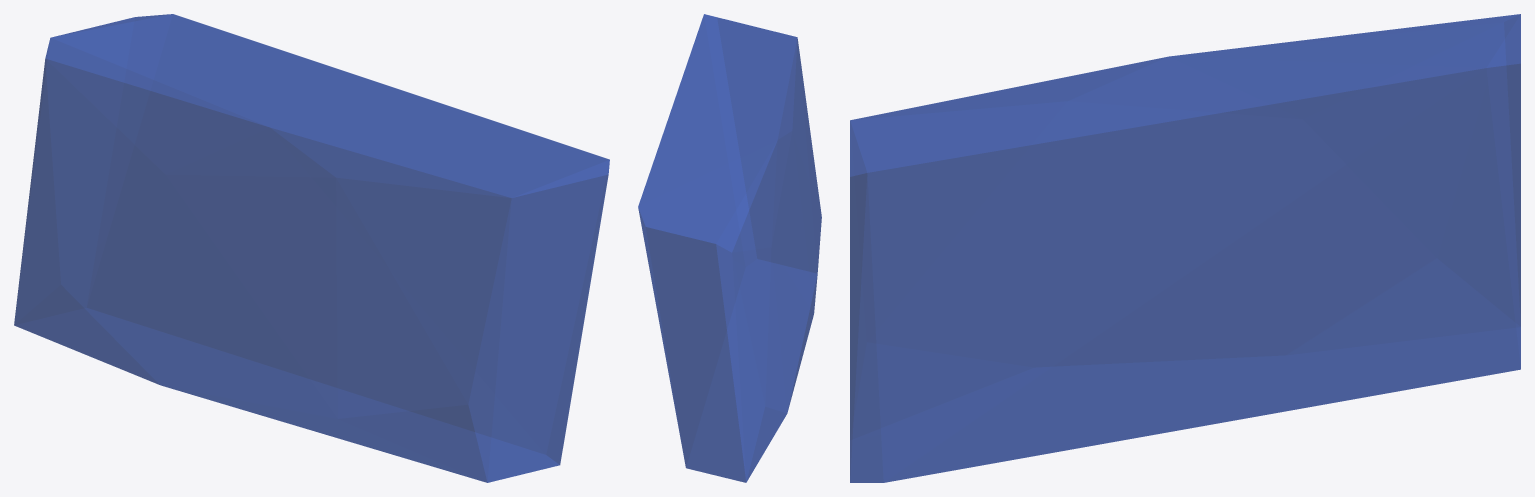
3 renders of one model, left to right at view 1: azimuth 30°, elevation 25°; view 2: azimuth 150°, elevation 25°; view 3: azimuth 270°, elevation 25°, orthographic. The views are drawn at different scales.
Parts seen in each view (by area): view 1: Shape_IndexedFaceSet.019_Shape_IndexedFaceSet.14695; view 2: Shape_IndexedFaceSet.019_Shape_IndexedFaceSet.14695; view 3: Shape_IndexedFaceSet.019_Shape_IndexedFaceSet.14695.
Part boxes in pixels (box(x1,y1,x2,y2)): Shape_IndexedFaceSet.019_Shape_IndexedFaceSet.14695: box(14, 14, 609, 482); Shape_IndexedFaceSet.019_Shape_IndexedFaceSet.14695: box(638, 14, 821, 482); Shape_IndexedFaceSet.019_Shape_IndexedFaceSet.14695: box(850, 14, 1520, 482).
Size of the model in its own units: 0.0735 by 0.0623 by 0.1101.
